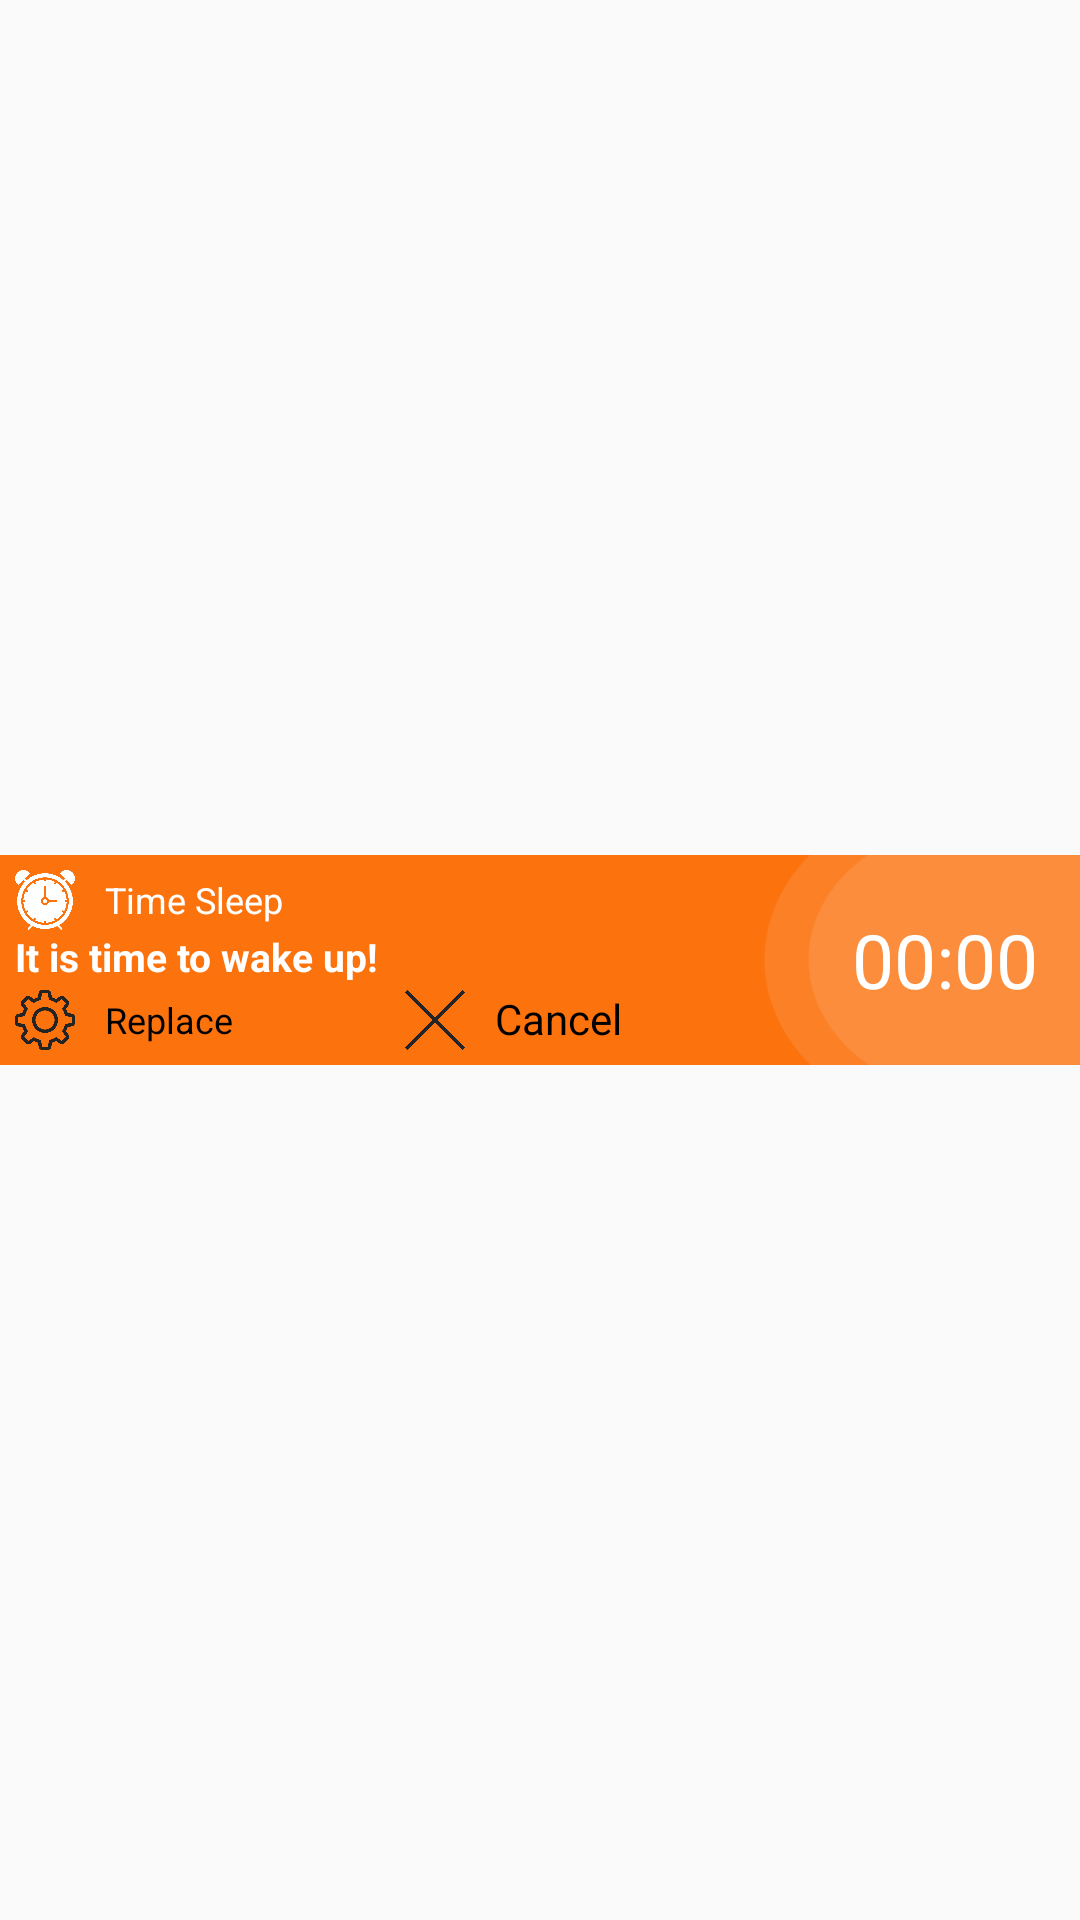

Icon bounding boxes for this 1080w x 1920h phone screenshot, format (x1=x1, y1=y1, x2=x2, y2=y2):
clock noti: (x1=15, y1=870, x2=75, y2=930)
setting: (x1=15, y1=990, x2=75, y2=1050)
